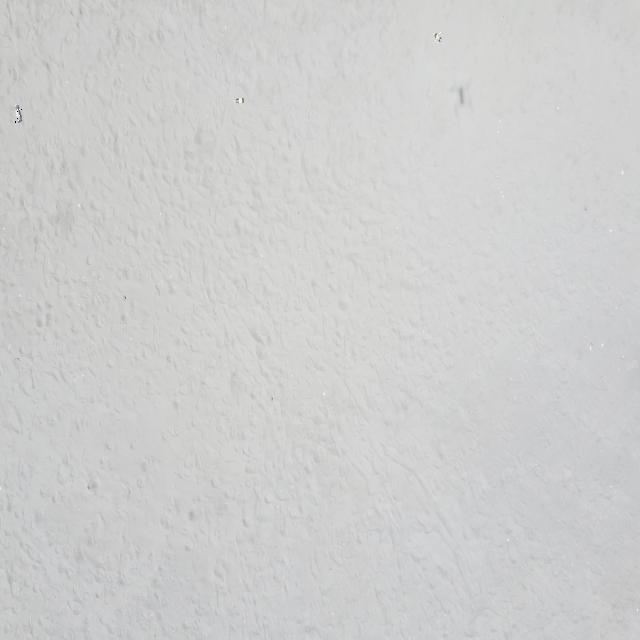glass: (14, 104, 22, 124), (433, 32, 442, 44), (234, 97, 244, 105)
